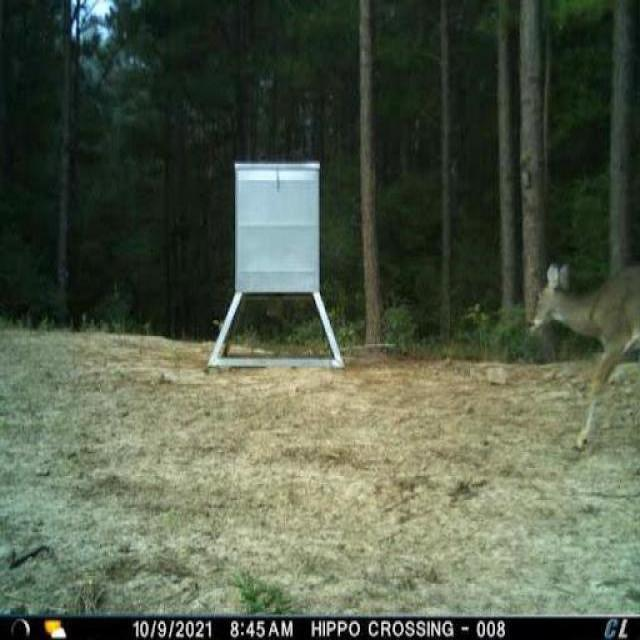deer: (524, 249, 640, 455)
